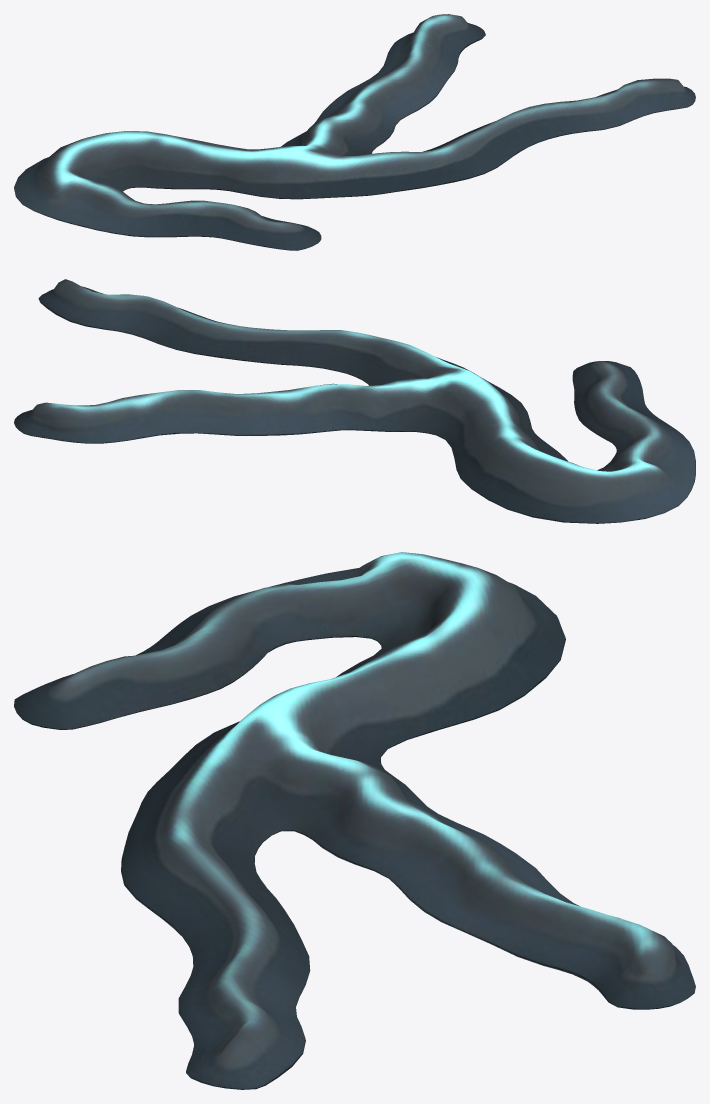
The model's file is caos_sts_chaosgrowth_02c_soma_v36.glb.
3 renders of one model, top to bottom at view 1: azimuth 30°, elevation 25°; view 2: azimuth 150°, elevation 25°; view 3: azimuth 270°, elevation 25°, orthographic. The views are drawn at different scales.
Visible parts, largest first — view 1: caos_sts_chaosgrowth_02c; view 2: caos_sts_chaosgrowth_02c; view 3: caos_sts_chaosgrowth_02c.
Part boxes in pixels (bbox=[...]): caos_sts_chaosgrowth_02c: bbox=[14, 14, 695, 250]; caos_sts_chaosgrowth_02c: bbox=[14, 279, 695, 523]; caos_sts_chaosgrowth_02c: bbox=[14, 552, 695, 1089].
Size of the model in its own units: 18.58 by 0.9109 by 10.21.
1 material, 1 textured.
